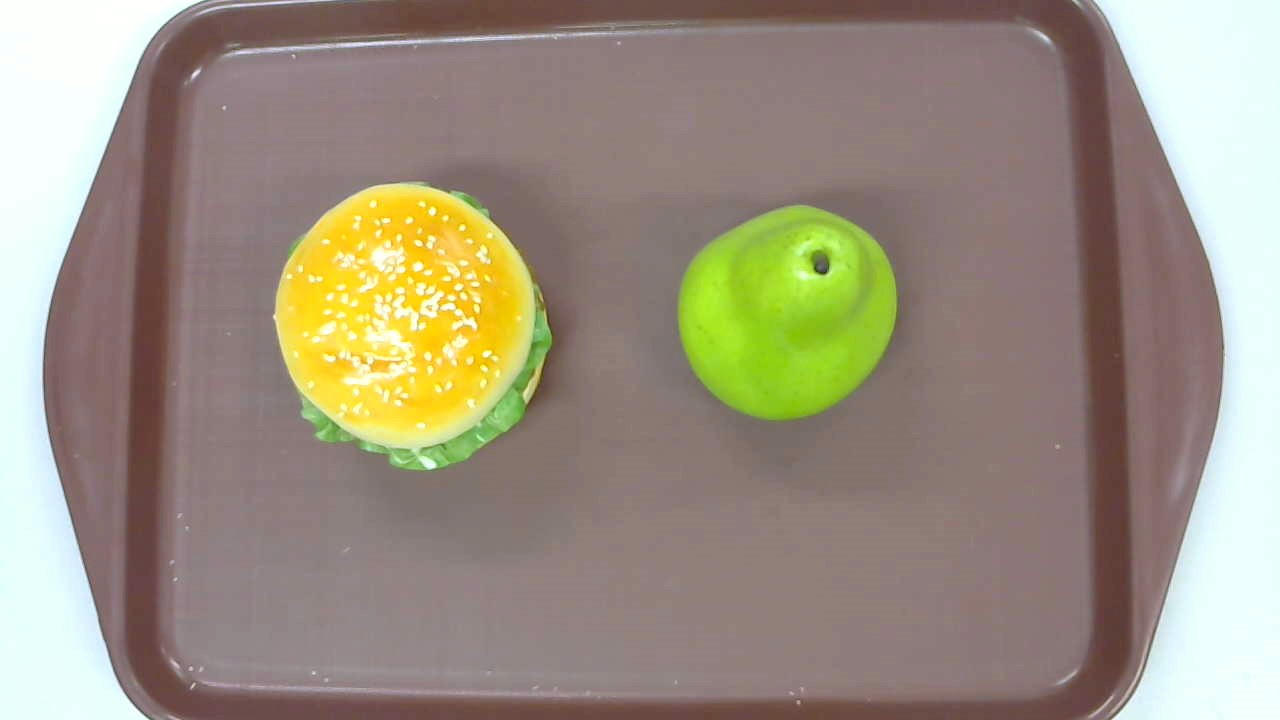green pear: (678, 203, 897, 419)
hamburger: (274, 180, 552, 472)
